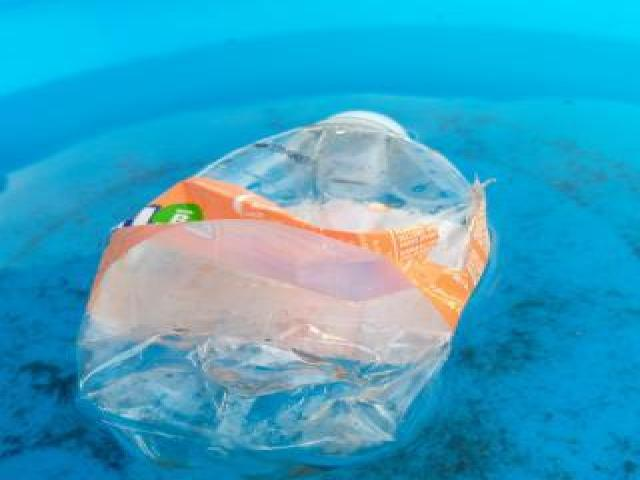Bottle: (71, 104, 503, 459)
